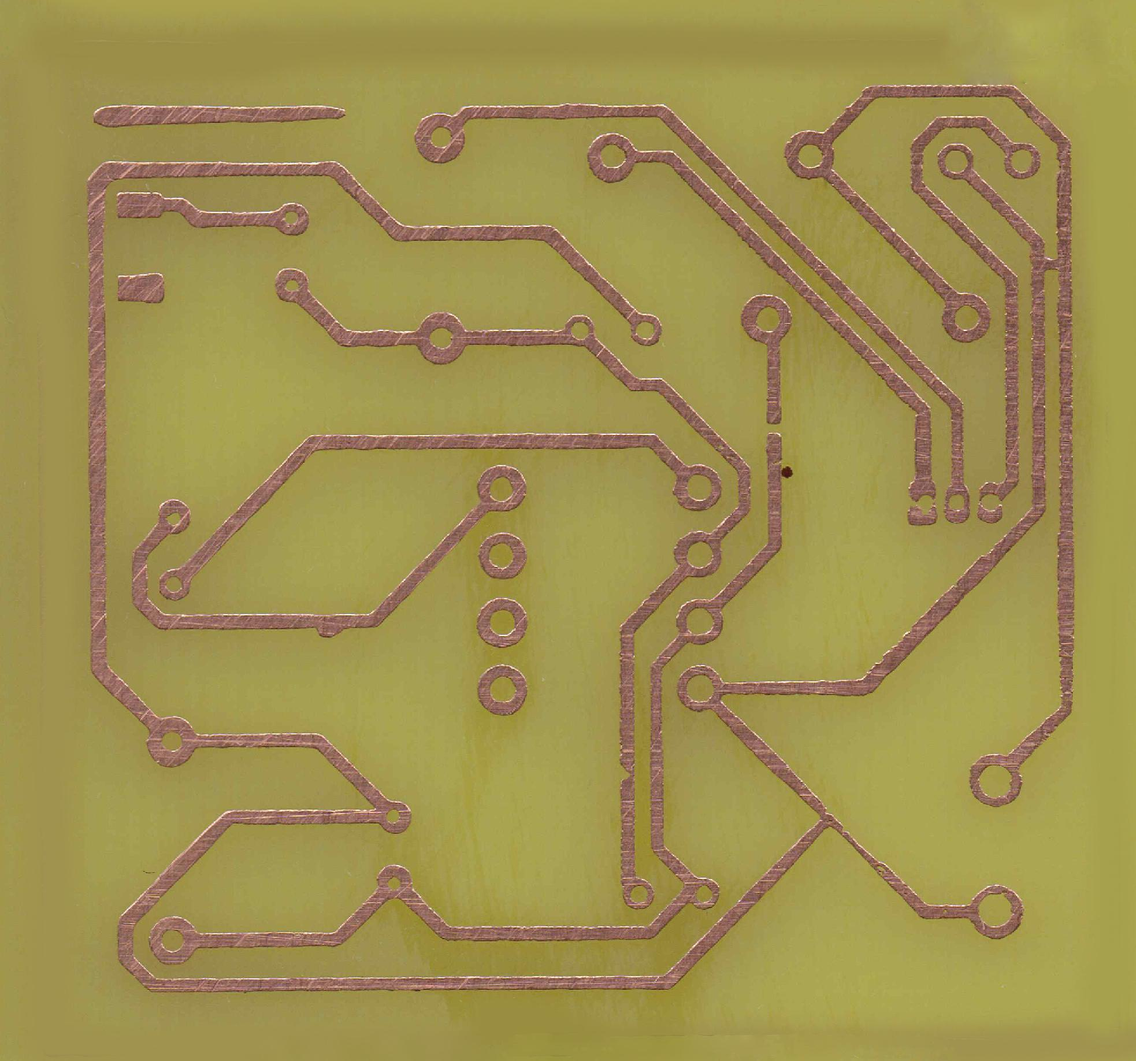missing_hole: (904, 477, 940, 530), (975, 479, 1009, 524)
mouse_bite: (614, 759, 640, 788), (840, 823, 849, 837)
open_circuit: (760, 411, 786, 446)
short: (1026, 249, 1075, 276)
spur: (312, 609, 347, 644)
spurious_copper: (84, 98, 355, 136)
